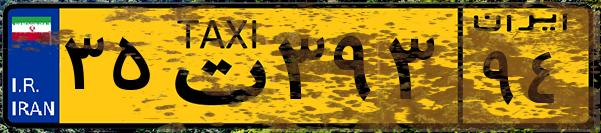3: (270, 28, 330, 110), (385, 28, 445, 110), (57, 26, 110, 100)
4: (525, 38, 570, 115)
5: (110, 28, 158, 98)
9: (330, 28, 385, 110), (475, 38, 525, 113)
ت: (158, 12, 270, 120)
